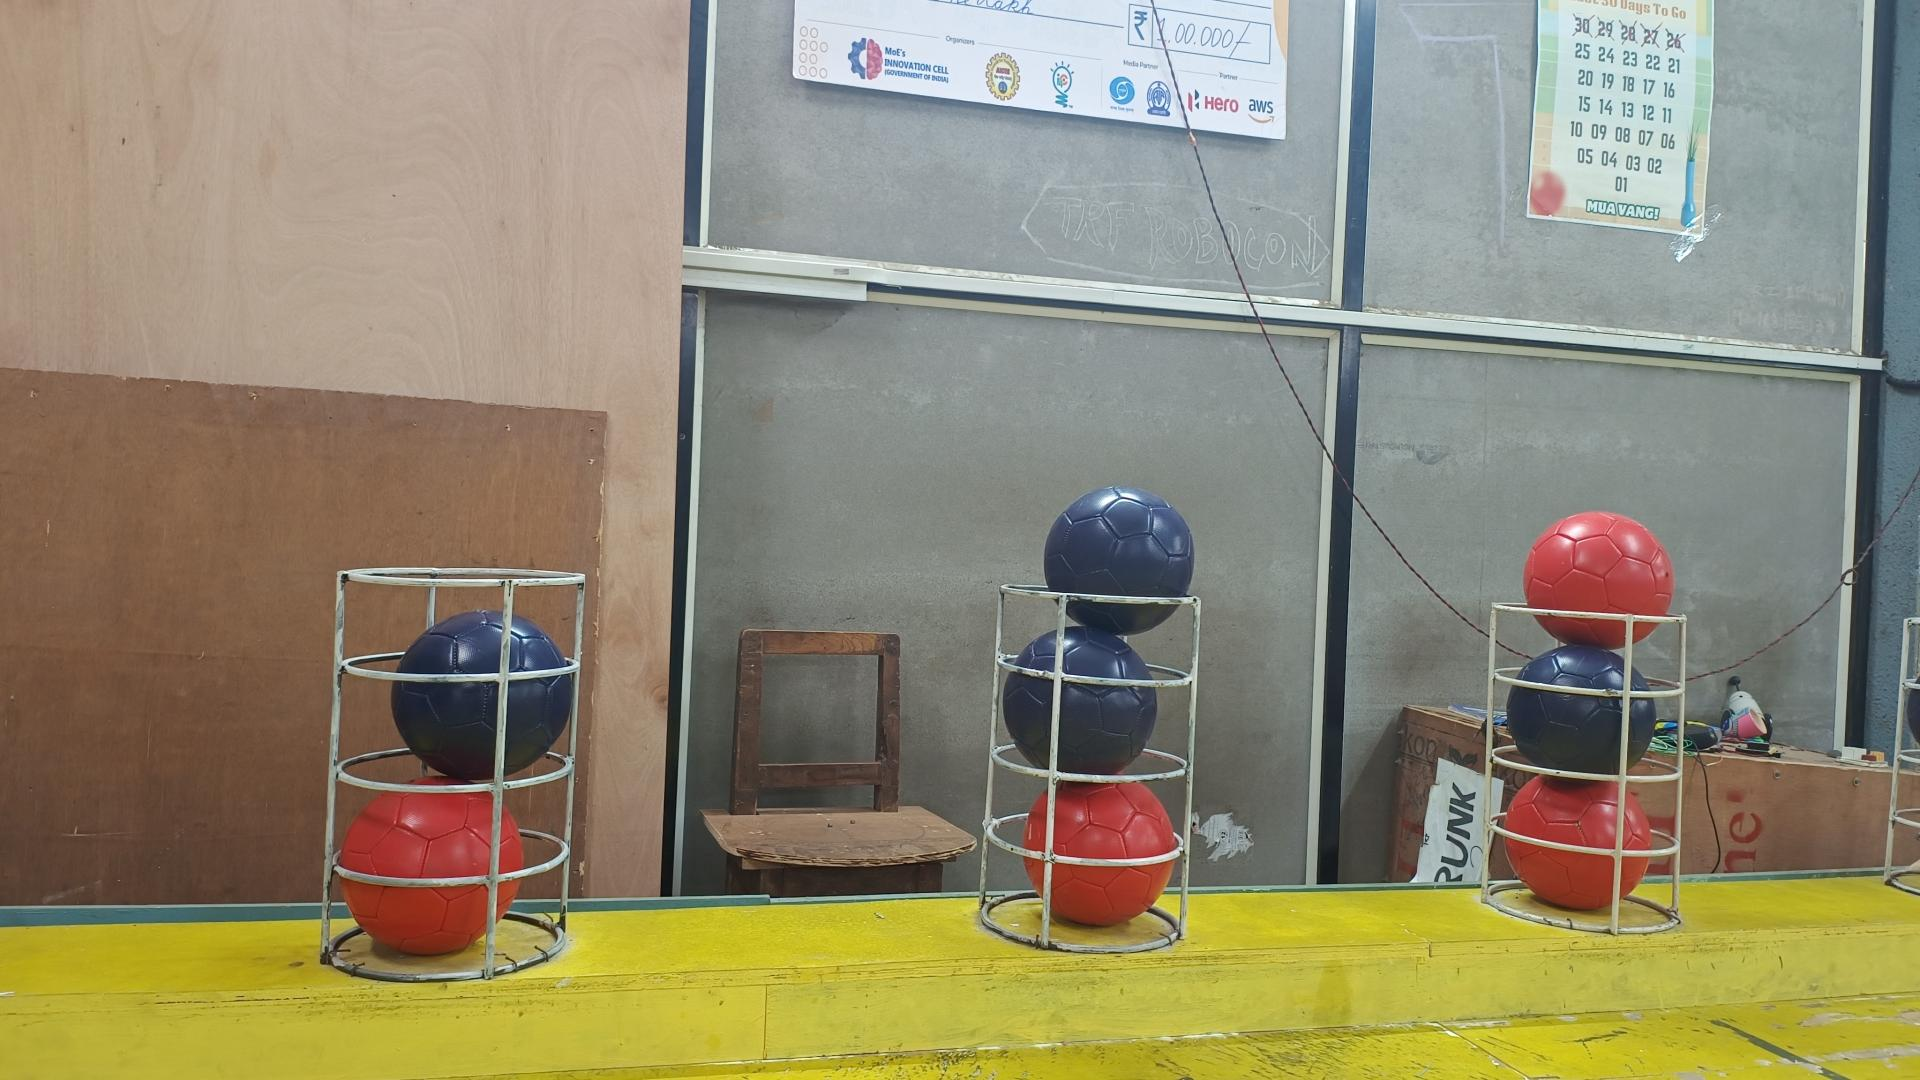dhoka: (390, 612, 574, 783), (1001, 626, 1159, 777), (1043, 488, 1196, 634), (1507, 641, 1658, 773)
laale: (338, 791, 525, 956), (1023, 781, 1178, 926), (1523, 510, 1676, 649), (1503, 777, 1650, 911)
